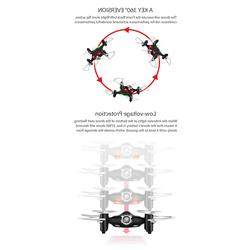drone: (75, 206, 181, 235), (74, 183, 178, 210), (77, 161, 176, 186), (77, 140, 176, 163), (134, 34, 176, 68), (80, 35, 117, 67), (103, 76, 148, 102)
